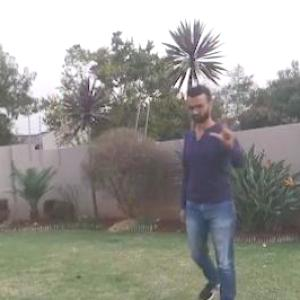land_hand: (210, 115, 241, 150)
